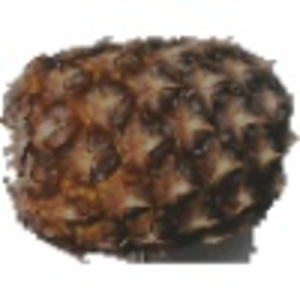abacaxi: (7, 24, 293, 274)
